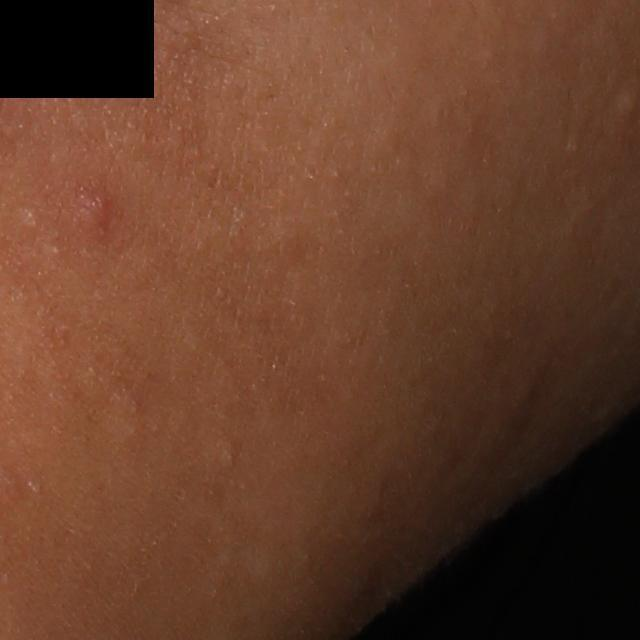comedo: (219, 444, 243, 469)
papule: (63, 182, 130, 249)
